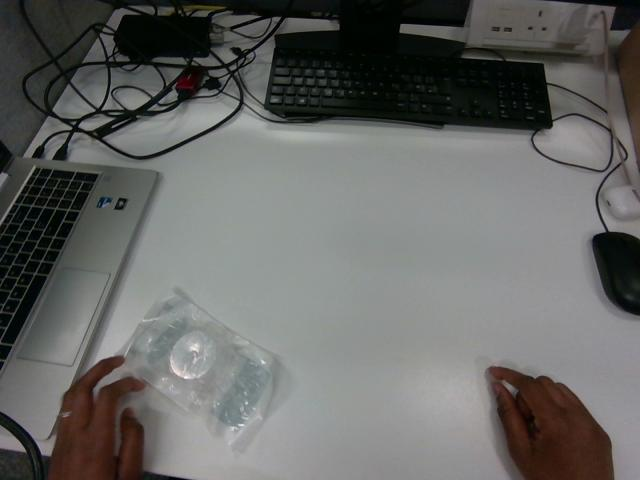gallipot: (122, 292, 273, 449)
